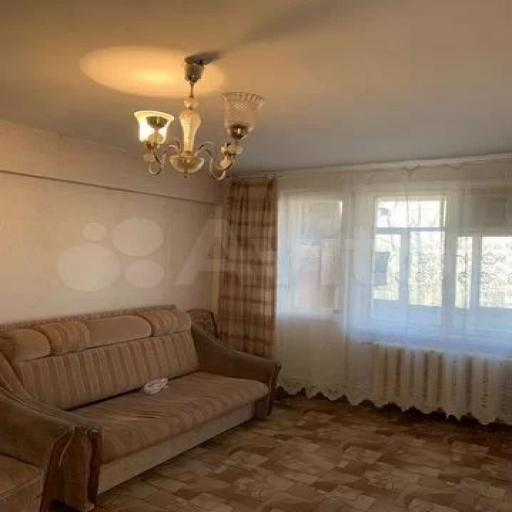sidewalk: (0, 307, 279, 510), (0, 390, 74, 511)
